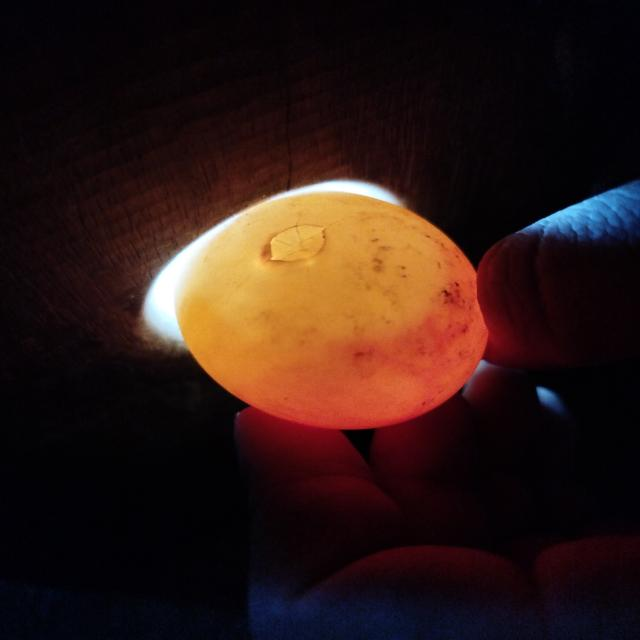Rachadura: (270, 224, 325, 262)
